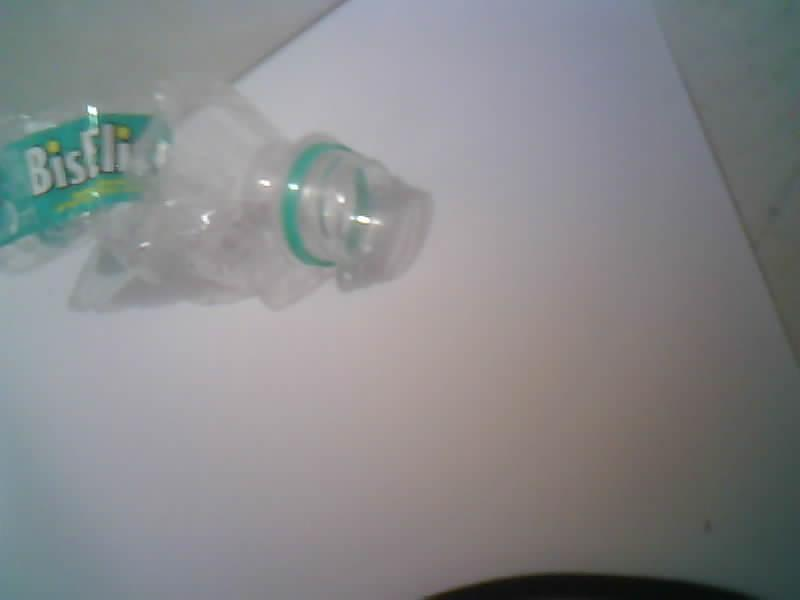non-biodegradable: (0, 73, 430, 311)
